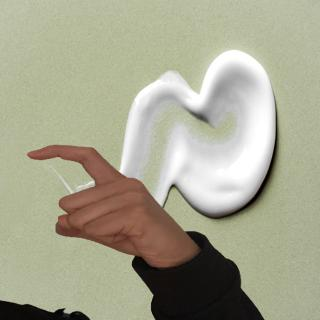WHY: (19, 136, 196, 262)
